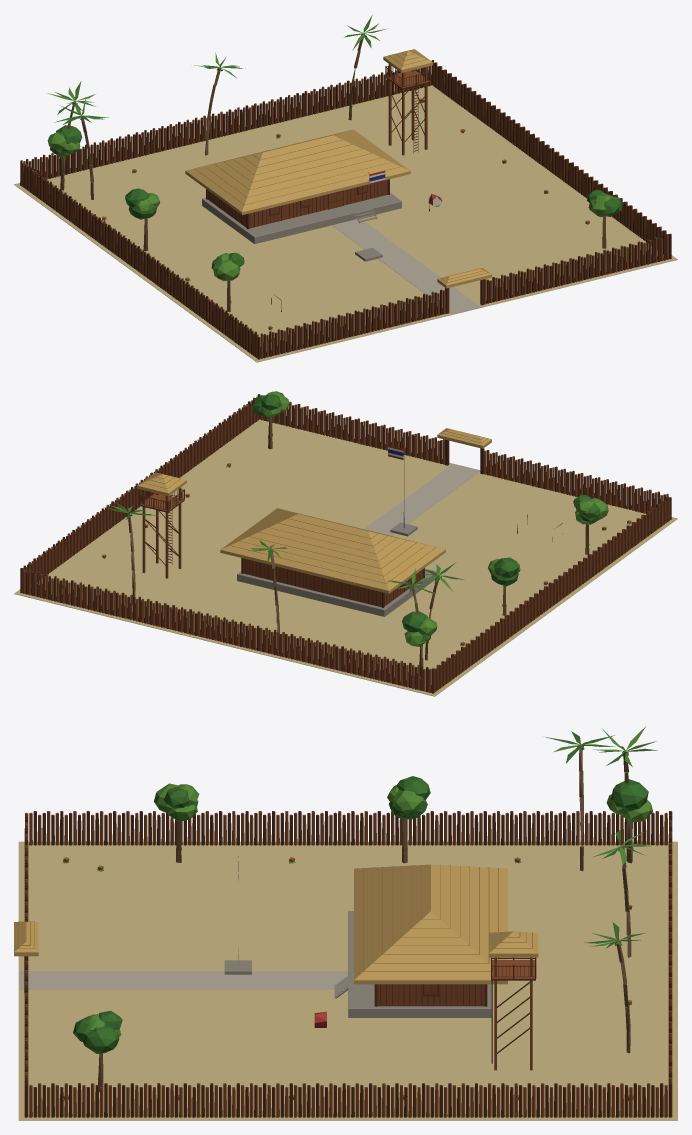
The model's file is police.glb.
3 renders of one model, top to bottom at view 1: azimuth 30°, elevation 25°; view 2: azimuth 150°, elevation 25°; view 3: azimuth 270°, elevation 25°, orthographic. The views are drawn at different scales.
Parts seen in each view (by area): view 1: body; view 2: body; view 3: body.
Part boxes in pixels (x1,y1,x2,y2): body: (14, 15, 677, 362); body: (14, 391, 677, 696); body: (14, 726, 677, 1120).
Size of the model in its own units: 47.9 by 10.88 by 48.25.
